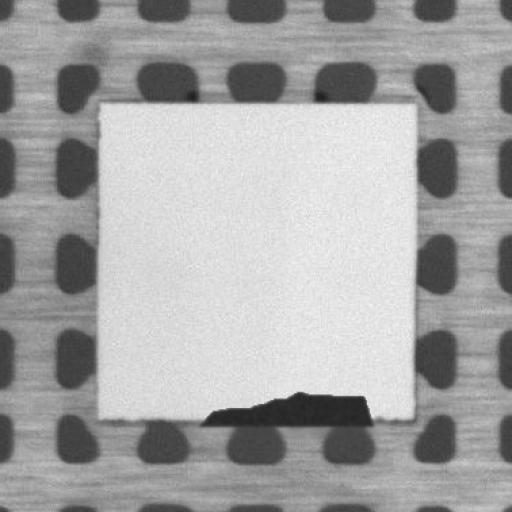DIE_BROKEN: (196, 390, 380, 427)
